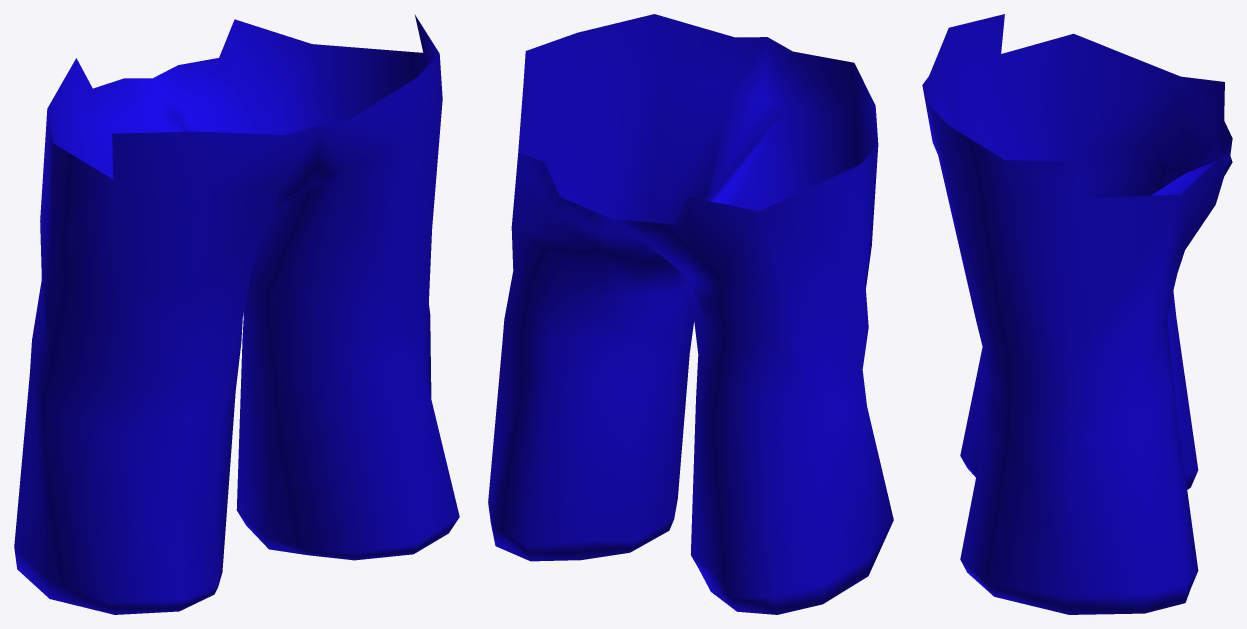
Rendered from cloth_bottom_l.fbx.
3 renders of one model, left to right at view 1: azimuth 30°, elevation 25°; view 2: azimuth 150°, elevation 25°; view 3: azimuth 270°, elevation 25°, orthographic. The views are drawn at different scales.
Parts seen in each view (by area): view 1: cloth_b_l; view 2: cloth_b_l; view 3: cloth_b_l.
Boxes of the visible parts, x1,y1,x2,y2 form: cloth_b_l: (14, 15, 459, 614); cloth_b_l: (488, 14, 893, 614); cloth_b_l: (922, 14, 1232, 614).
Size of the model in its own units: 45.35 by 56.67 by 34.54.
